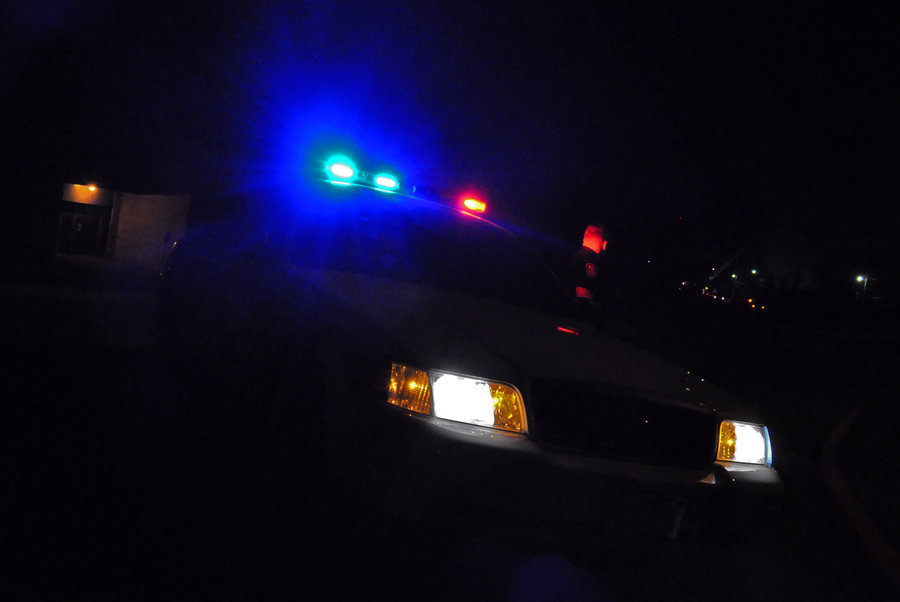car: (141, 142, 810, 574)
